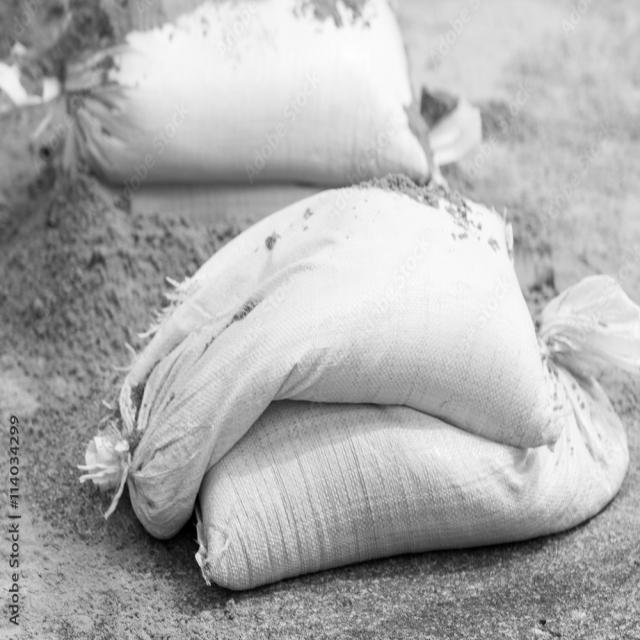sack: (84, 183, 560, 540), (194, 273, 640, 588)
